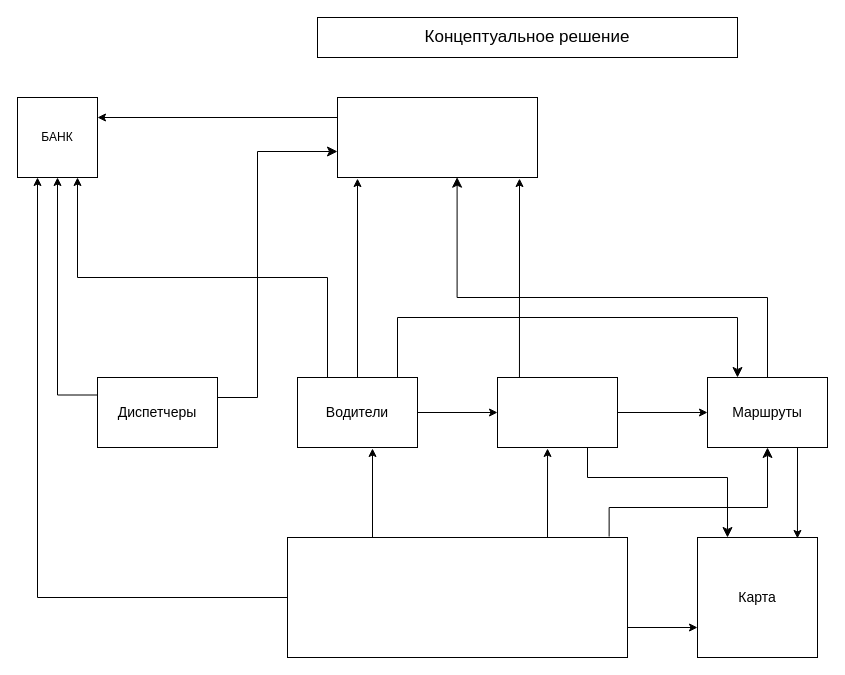
Some shapes in this 845 by 675 pixel diagram are drawn without their labels. The box of each missing label's shape, as (x1, y1, x2, y2) in pixels:
Пассажиры: (286, 536, 628, 658)
Перевозчик: (336, 96, 538, 178)
Транспортные средства (ТС): (496, 376, 618, 448)
